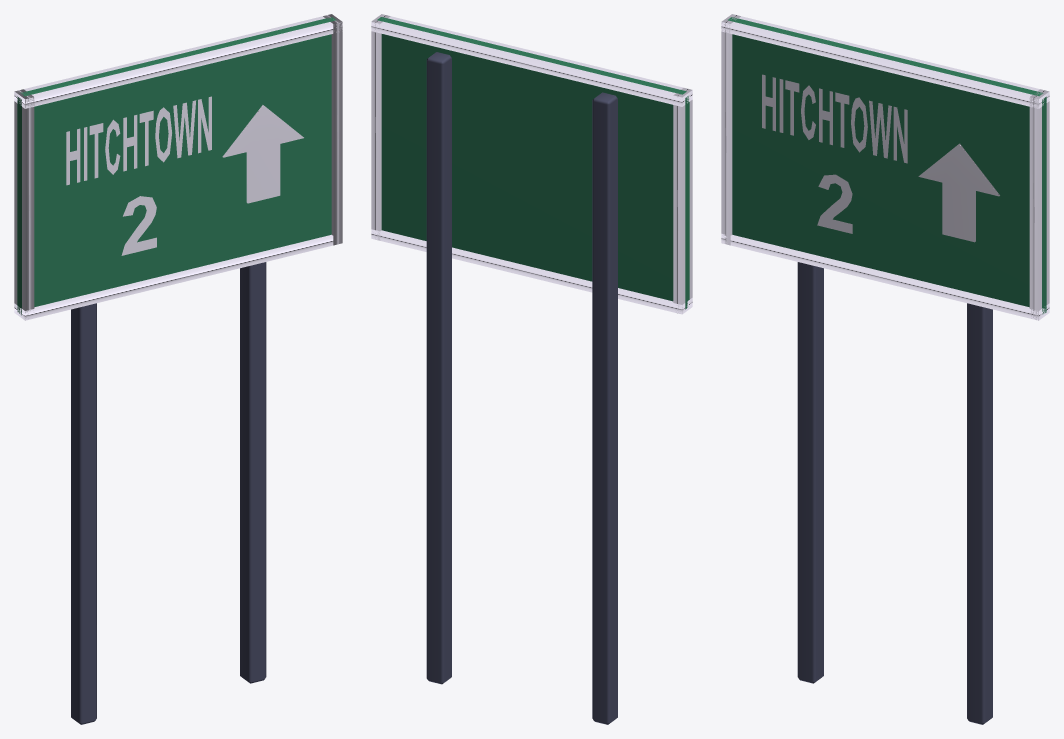
Rendered from road_sign_hitchtown.glb.
3 renders of one model, left to right at view 1: azimuth 30°, elevation 25°; view 2: azimuth 150°, elevation 25°; view 3: azimuth 330°, elevation 25°, orthographic. The views are drawn at different scales.
Visible parts, largest first — view 1: Sign; view 2: Sign; view 3: Sign.
Boxes of the visible parts, <box> form: Sign: <box>14,14,342,724</box>; Sign: <box>371,14,692,724</box>; Sign: <box>721,14,1049,724</box>.
Bounding box in the file's own units: 1.2 × 2.35 × 0.141.
